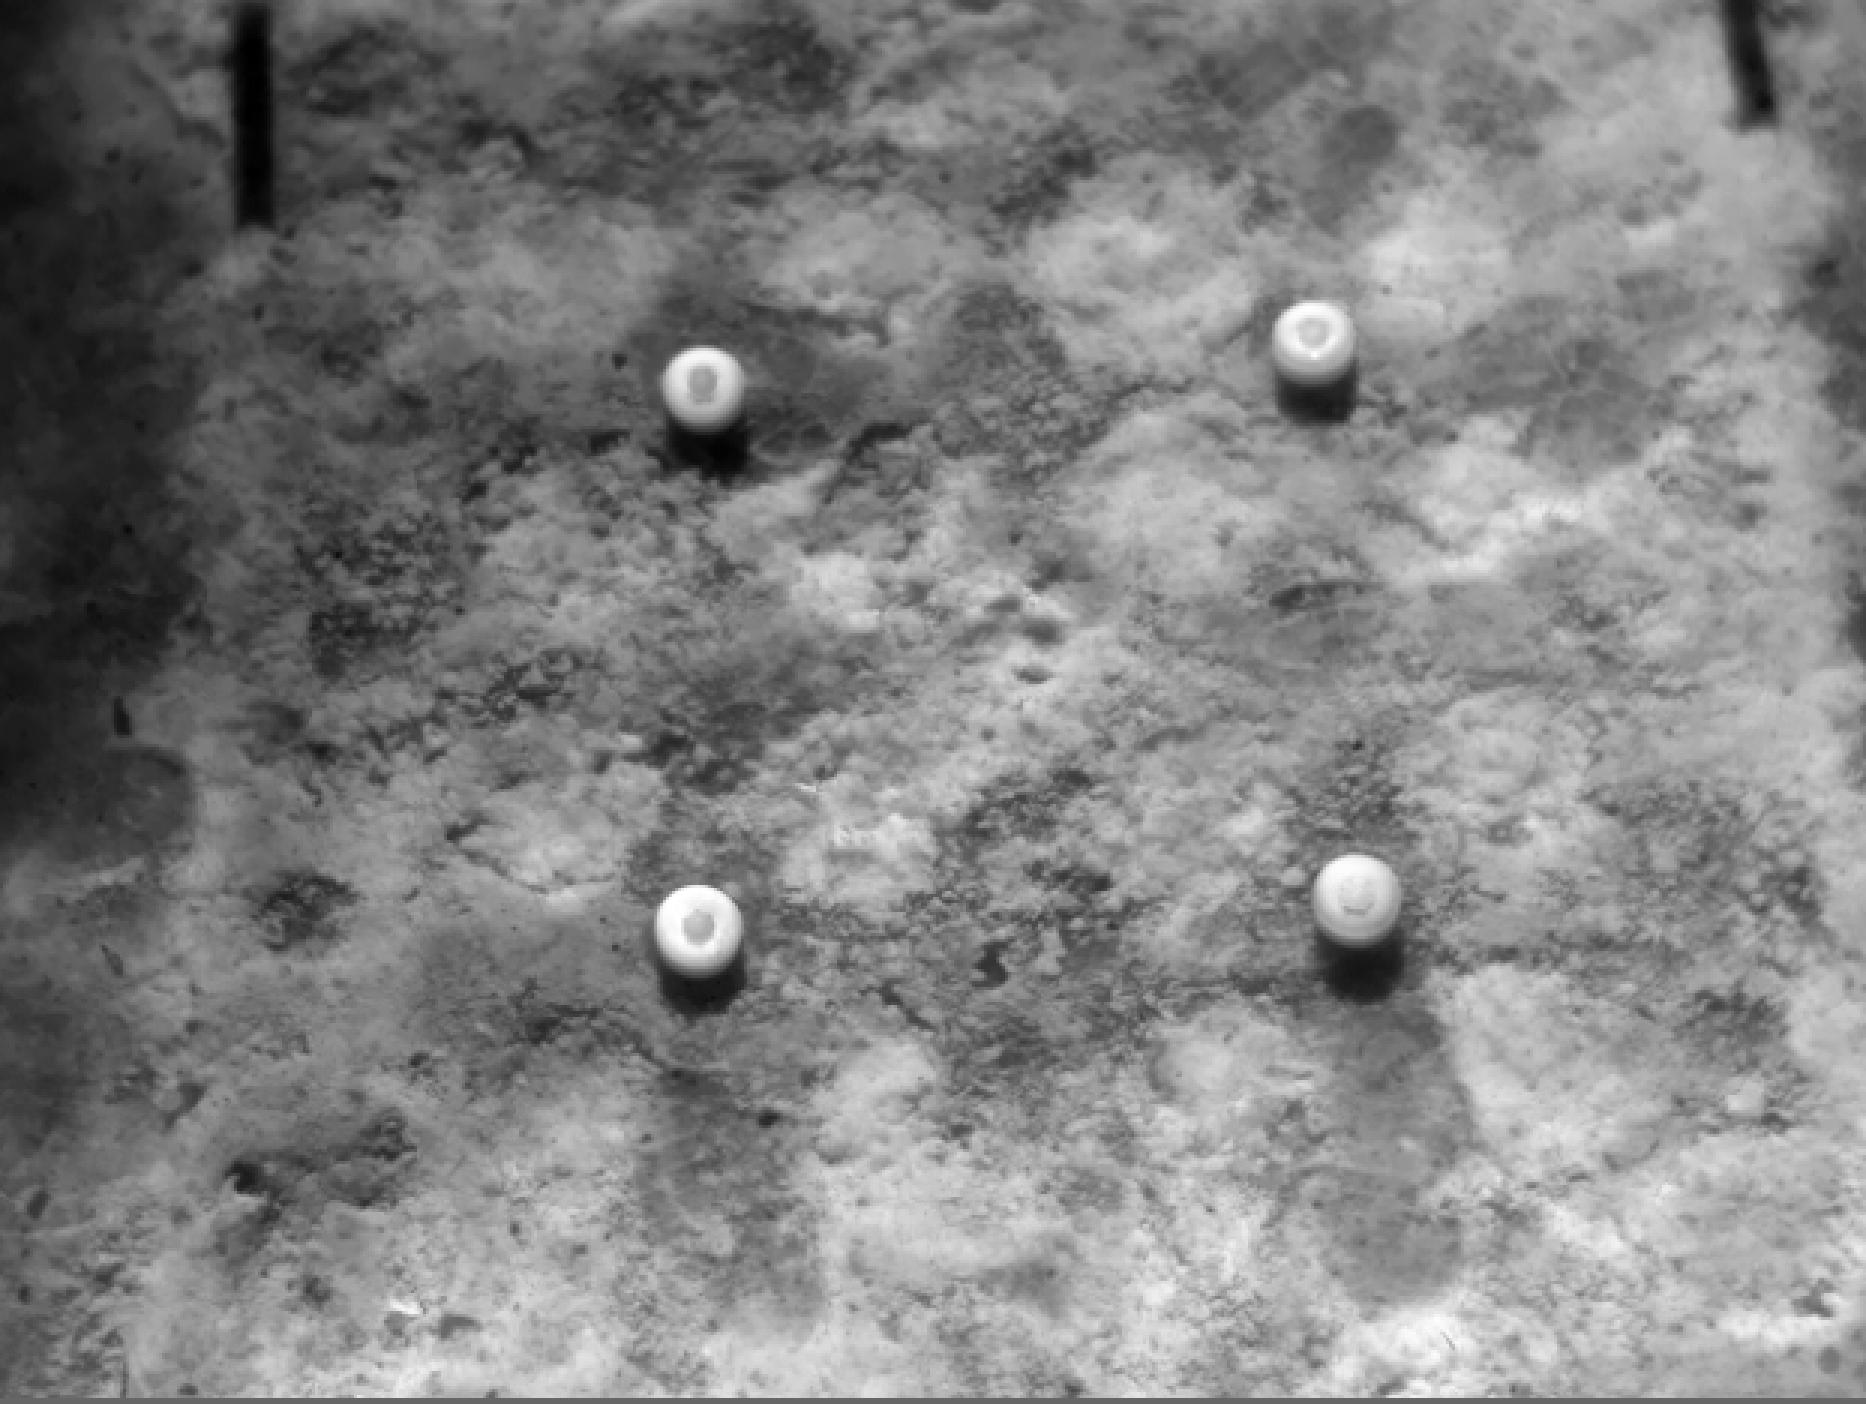mines-gjV8: (1305, 848, 1416, 960), (1272, 288, 1360, 400), (655, 882, 746, 978), (665, 338, 740, 435)
